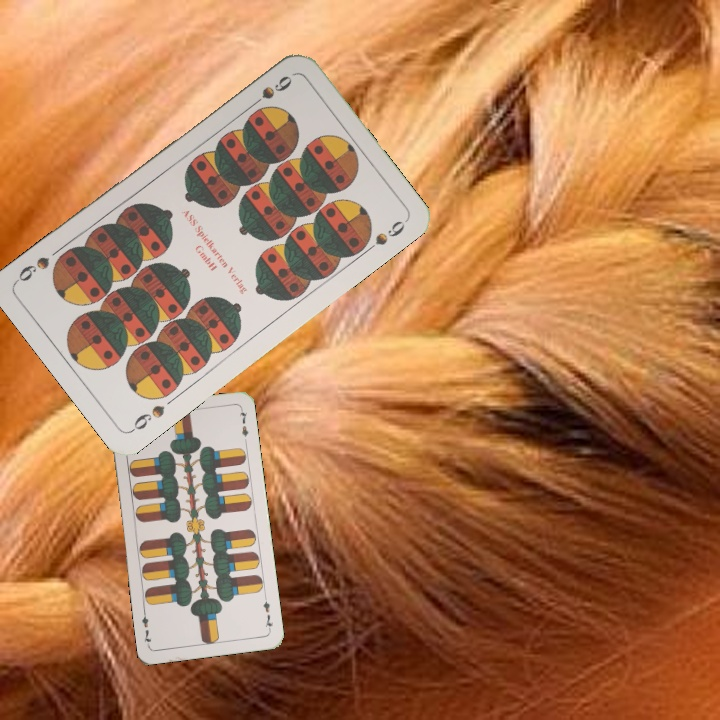E7: (259, 593, 275, 633)
S9: (244, 71, 295, 112), (127, 400, 167, 435)
